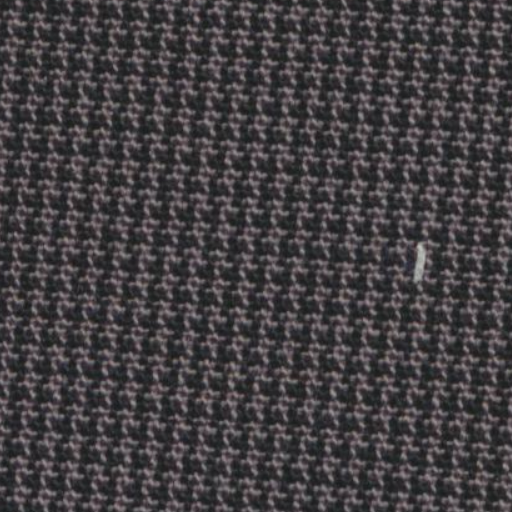DuanSha: (397, 235, 440, 298)
